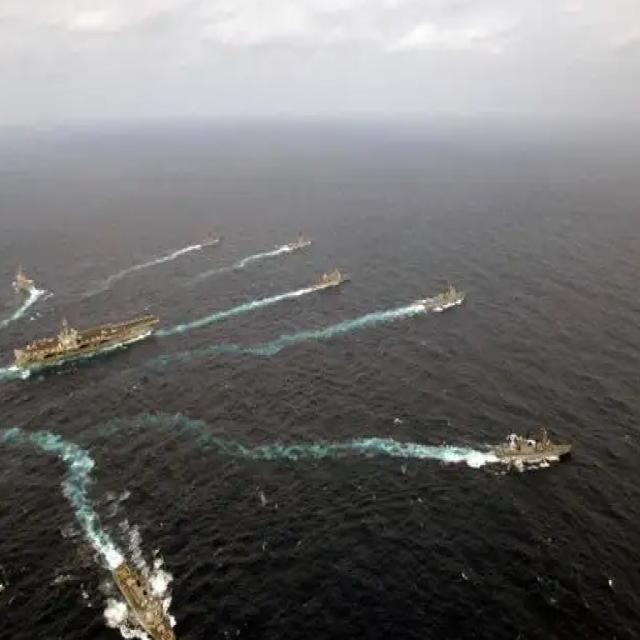navalvessels: (8, 304, 161, 379), (99, 541, 182, 640), (473, 424, 571, 474), (424, 276, 476, 318), (310, 258, 347, 287)
